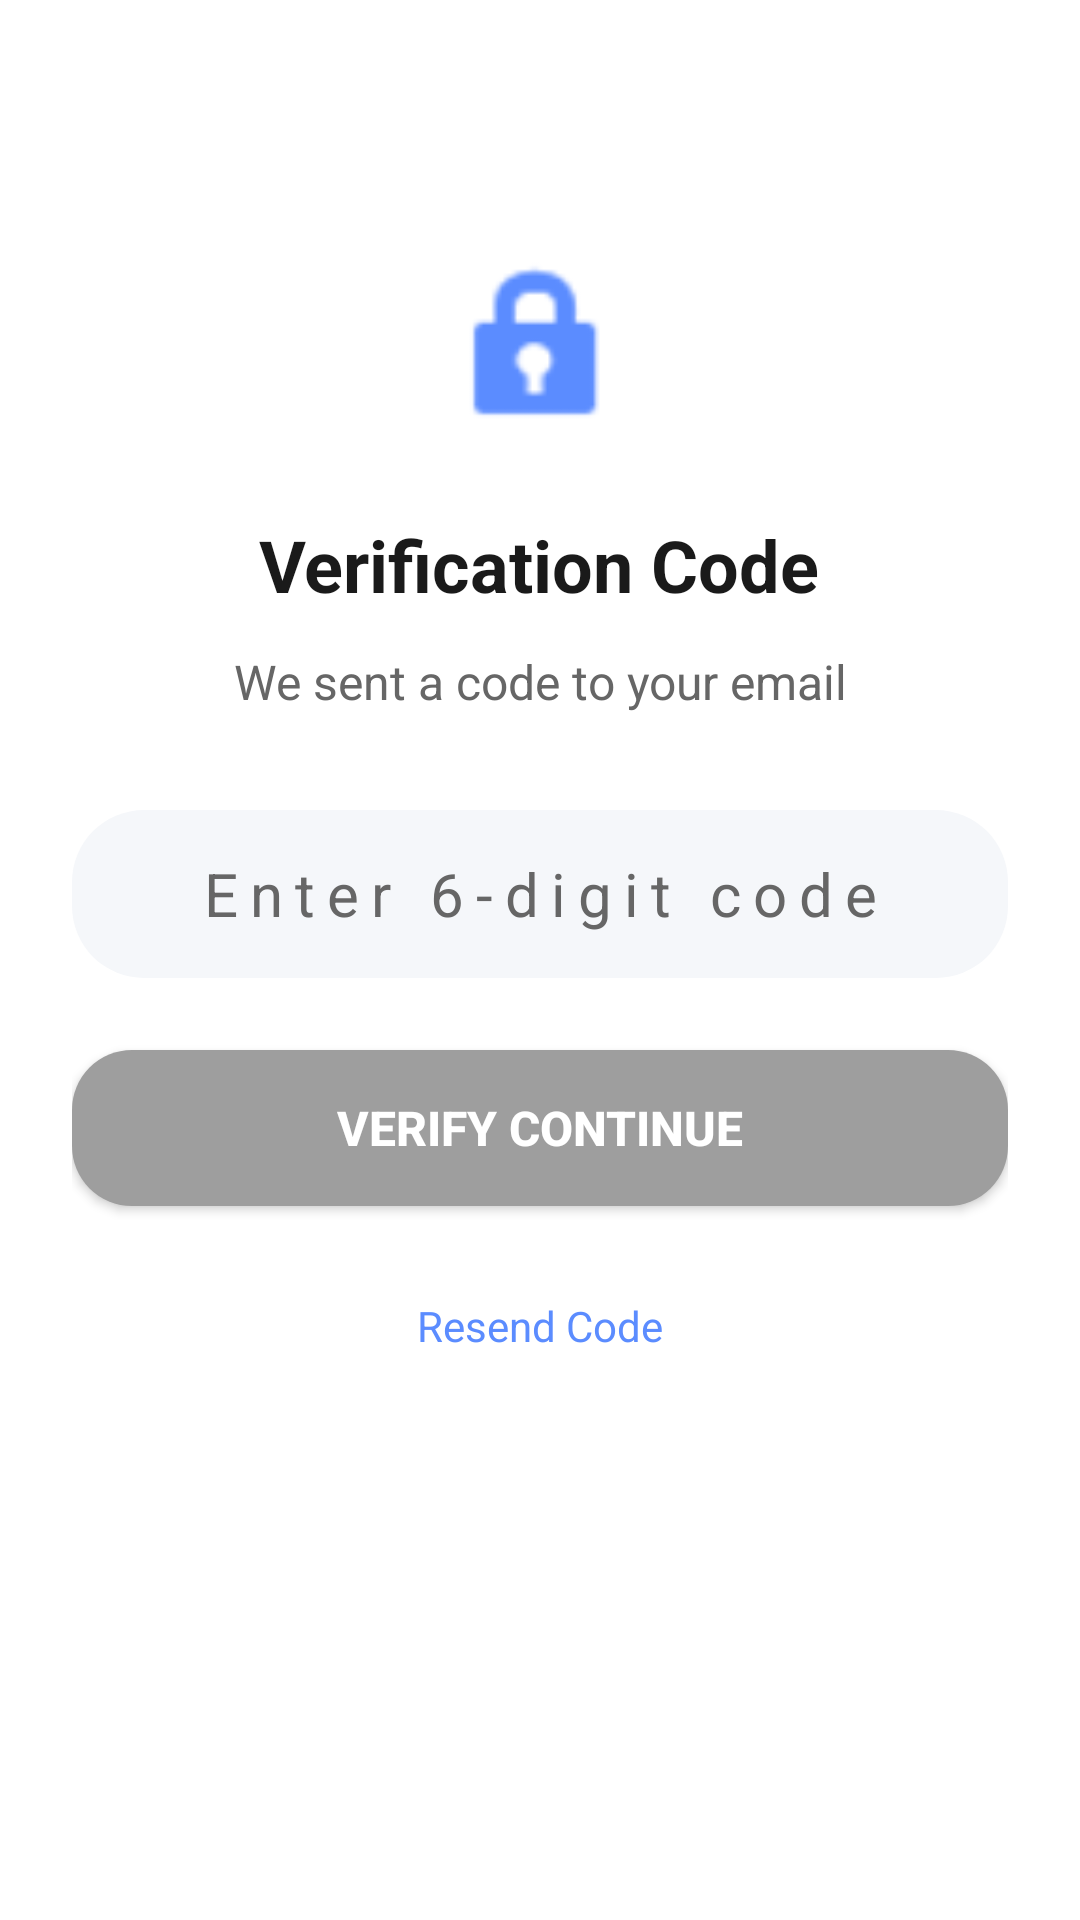

Icons on this 1080*1920 Android screen, each with its box as [x1,y1,x2,y2]:
Lock: [473,269,598,415]
